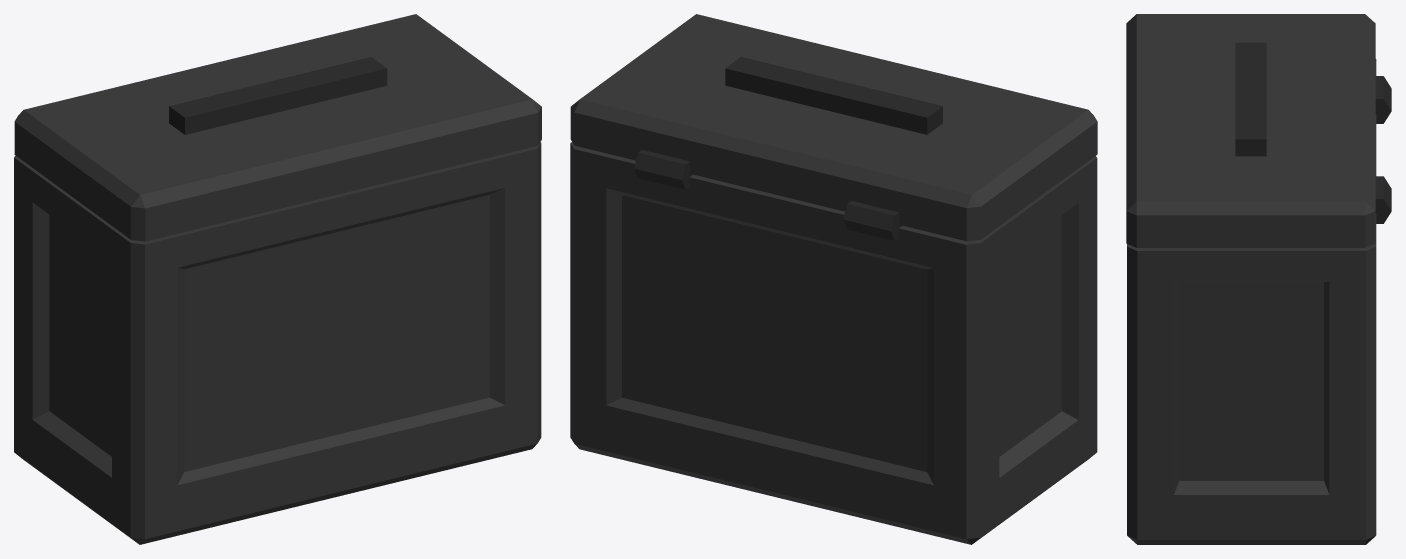
File: AmoBox_01.fbx
3 views of the same model, side by side, from view 1: azimuth 30°, elevation 25°; view 2: azimuth 150°, elevation 25°; view 3: azimuth 270°, elevation 25° (orthographic). The views are drawn at different scales.
Visible parts, largest first — view 1: AmoBox_01, AmoBox_01_2; view 2: AmoBox_01, AmoBox_01_2; view 3: AmoBox_01, AmoBox_01_2.
Boxes of the visible parts, bbox=[...] form: AmoBox_01: bbox=[14, 142, 541, 544]; AmoBox_01_2: bbox=[14, 14, 541, 241]; AmoBox_01: bbox=[570, 142, 1097, 544]; AmoBox_01_2: bbox=[570, 14, 1097, 241]; AmoBox_01: bbox=[1127, 59, 1391, 544]; AmoBox_01_2: bbox=[1126, 14, 1375, 247].
Size of the model in its own units: 35.06 by 29.96 by 20.01.
